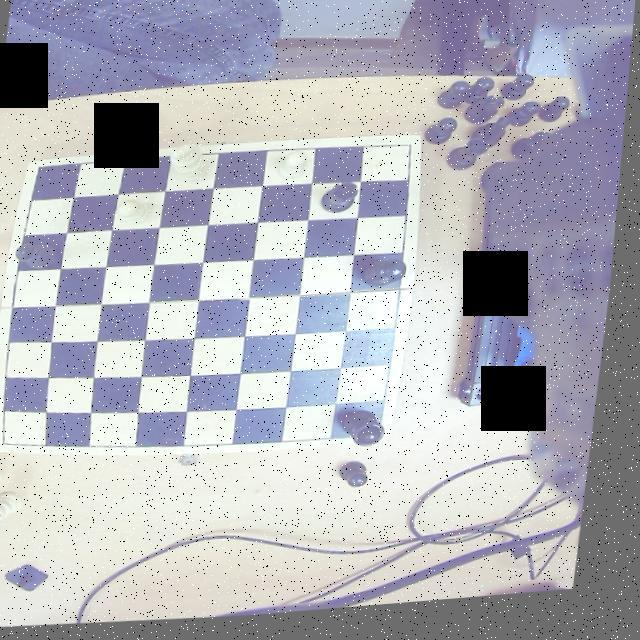chess-table-corners: (371, 424, 398, 448), (401, 142, 426, 165), (29, 158, 59, 176), (0, 430, 24, 450)
